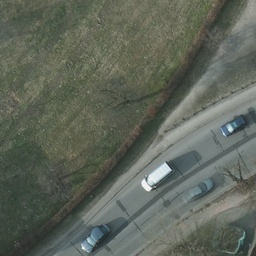car: (139, 162, 172, 190), (82, 221, 108, 255), (180, 180, 211, 201), (221, 114, 247, 137)
